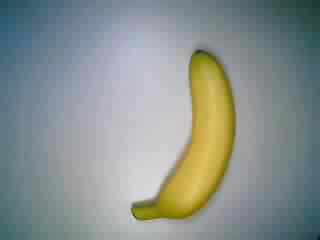banana: (127, 43, 248, 222)
